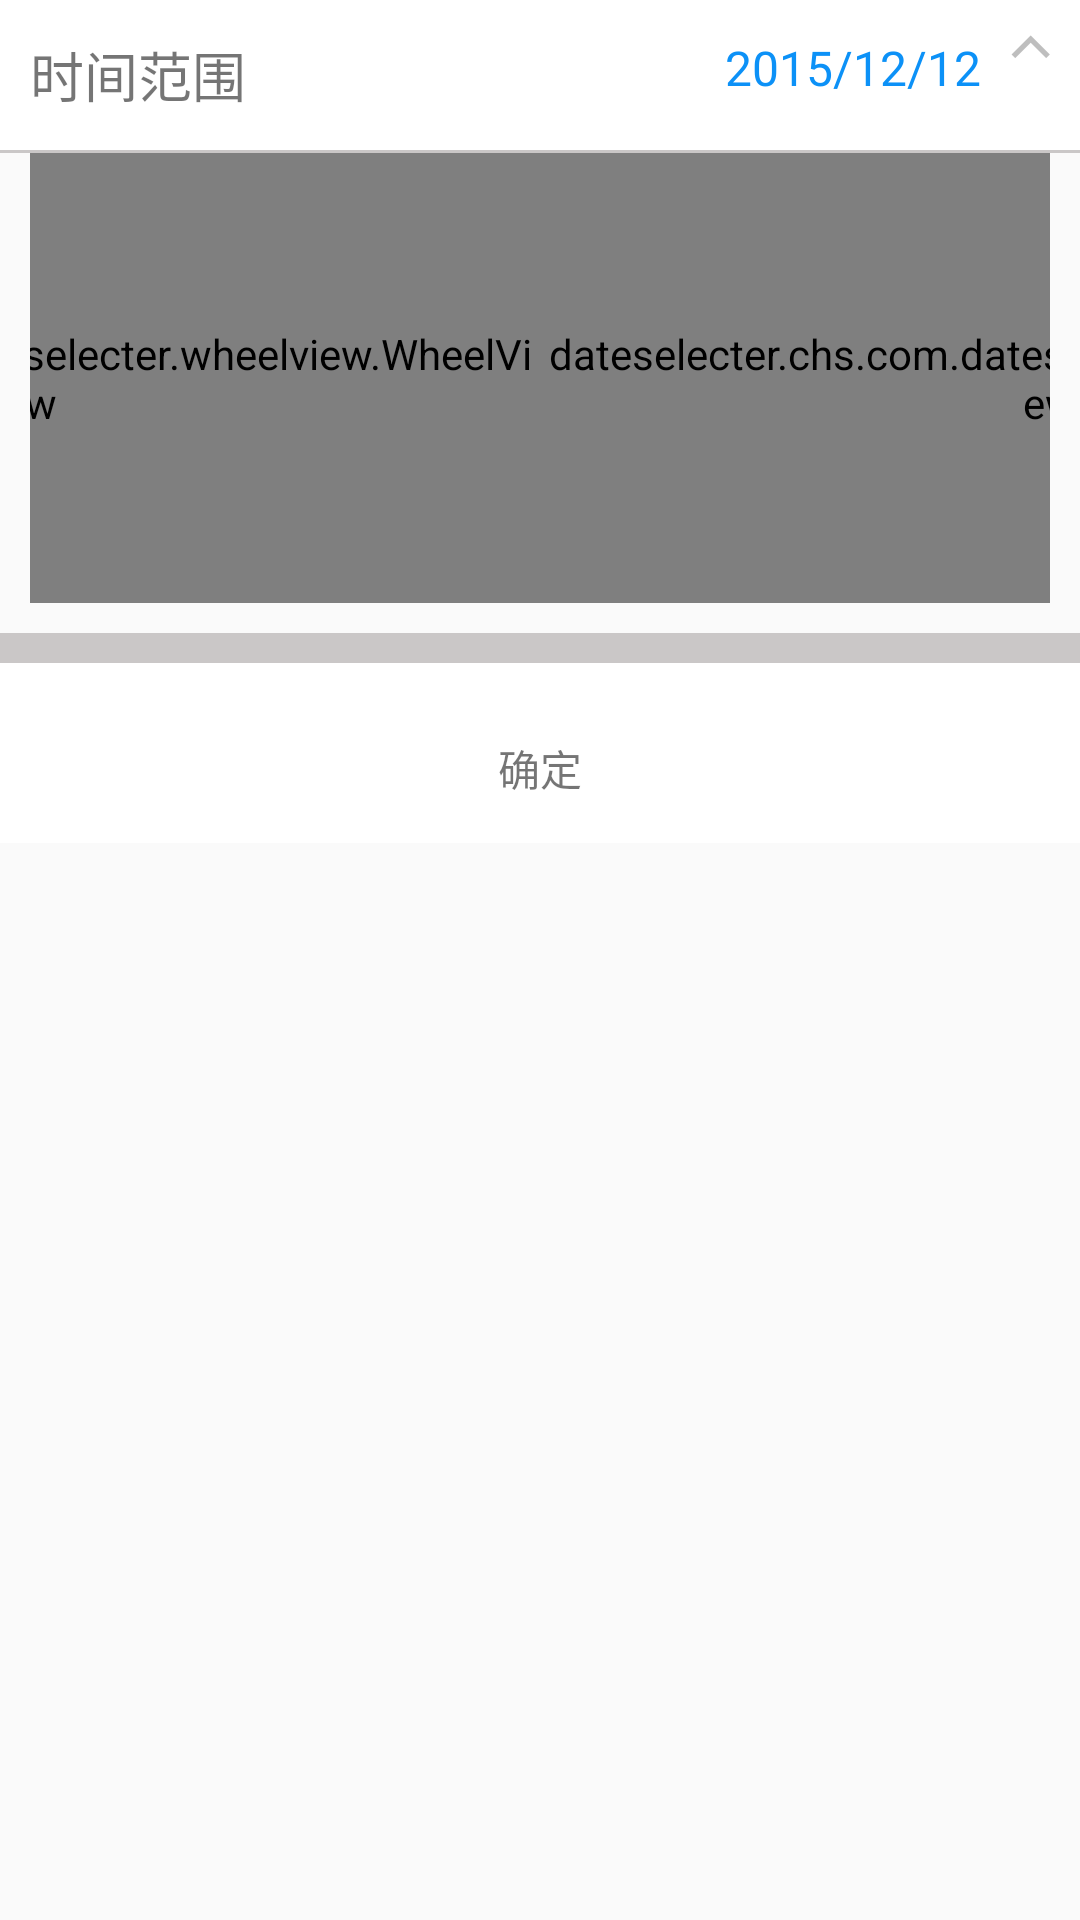

Where to tap for icons on this 1080w x 1920h app screen, as (x=x, y=y):
arrow up: (x=1031, y=47)
